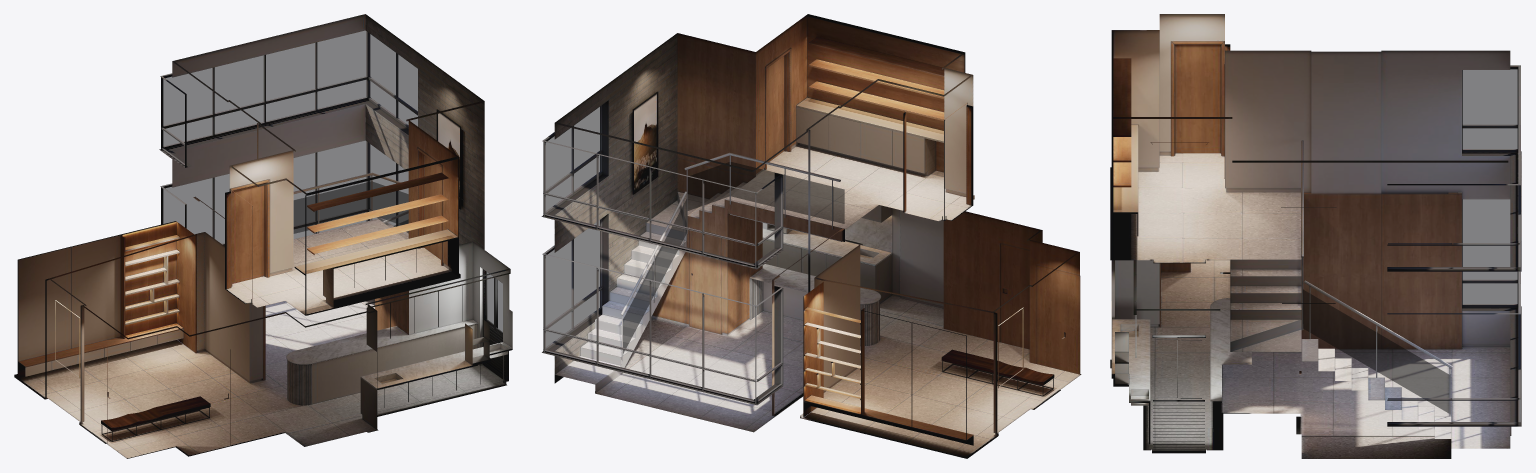
The model's file is duplex.glb.
3 views of the same model, side by side, from view 1: azimuth 30°, elevation 25°; view 2: azimuth 150°, elevation 25°; view 3: azimuth 270°, elevation 25° (orthographic). The views are drawn at different scales.
Visible parts, largest first — view 1: Object_4, Object_6; view 2: Object_4, Object_6; view 3: Object_4, Object_6.
Boxes of the visible parts, box(x1,y1,x2,y2) form: Object_4: box(14, 14, 512, 458); Object_6: box(163, 30, 502, 332); Object_4: box(541, 14, 1081, 458); Object_6: box(543, 107, 844, 353); Object_4: box(1110, 14, 1521, 458); Object_6: box(1303, 69, 1517, 413).
Bounding box in the file's own units: 8.77 × 5.53 × 6.92.
Materials: 2 (1 with a texture image).
